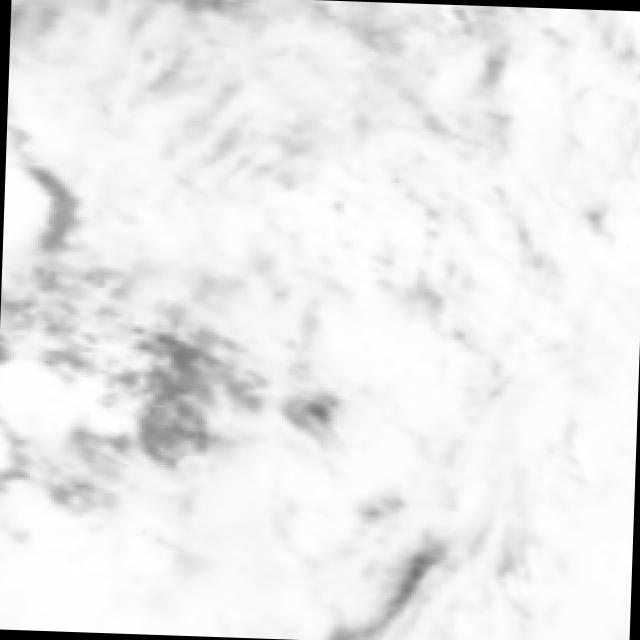CB: (349, 123, 640, 460), (498, 7, 640, 640), (0, 546, 290, 639)
